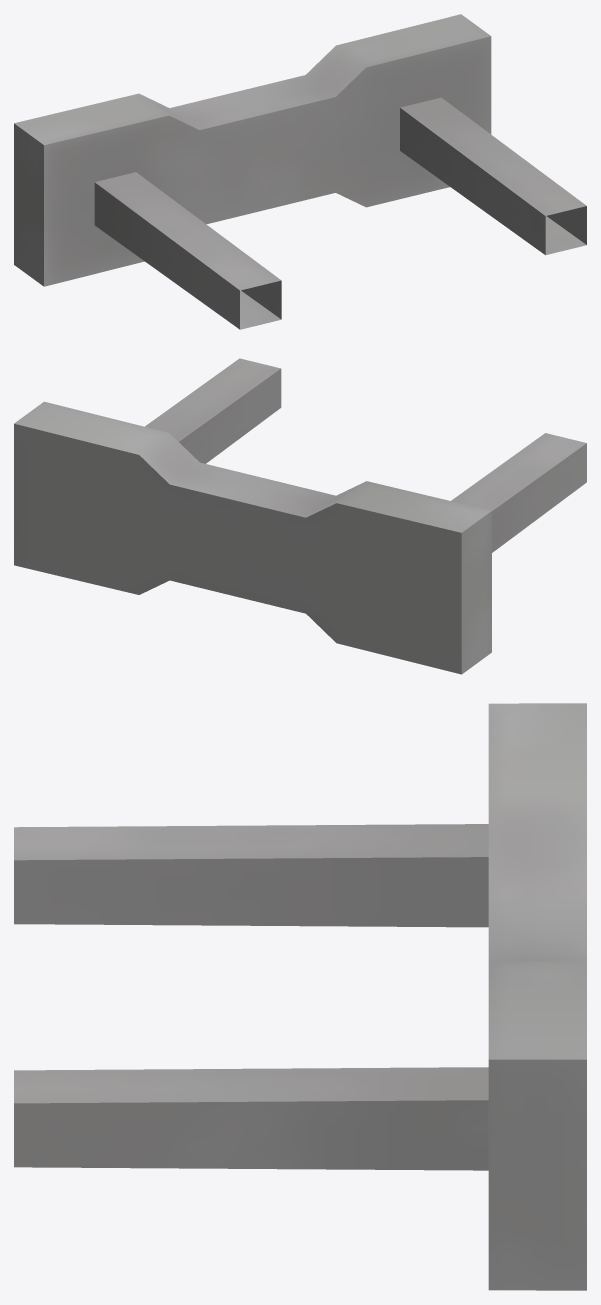
Rendered from Pipe00.fbx.
3 views of the same model, one above another, from view 1: azimuth 30°, elevation 25°; view 2: azimuth 150°, elevation 25°; view 3: azimuth 270°, elevation 25° (orthographic). The views are drawn at different scales.
Visible parts, largest first — view 1: Mat_Pipe_01; view 2: Mat_Pipe_01; view 3: Mat_Pipe_01.
Boxes of the visible parts, left/top/right/bottom form: Mat_Pipe_01: left=14, top=14, right=586, bottom=329; Mat_Pipe_01: left=14, top=358, right=586, bottom=674; Mat_Pipe_01: left=14, top=703, right=586, bottom=1290.
Size of the model in its own units: 0.5807 by 0.1756 by 0.3949.
Materials: 1 (1 with a texture image).
